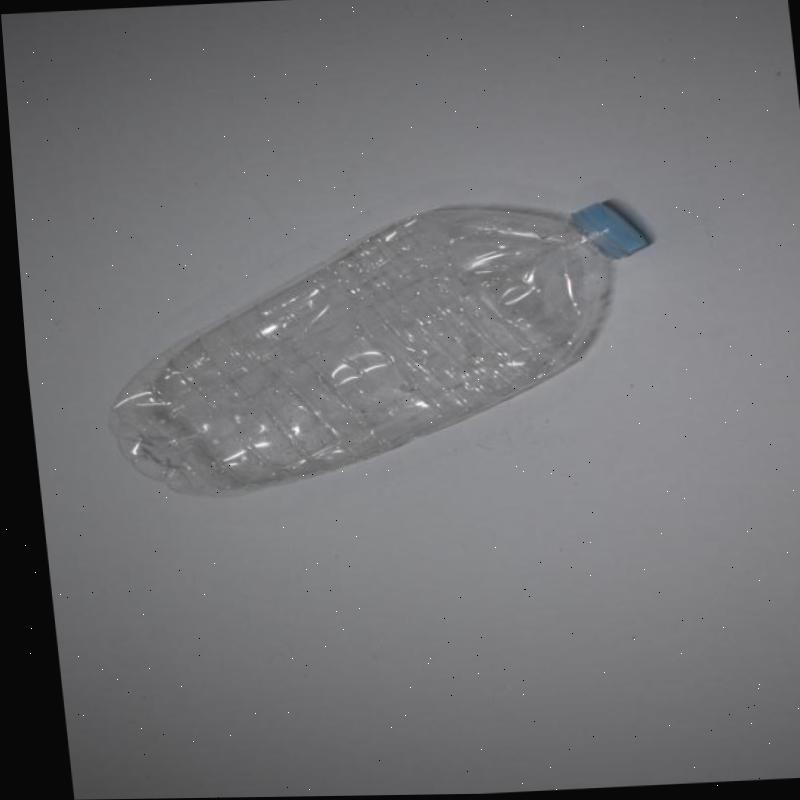botella: (83, 198, 671, 506)
